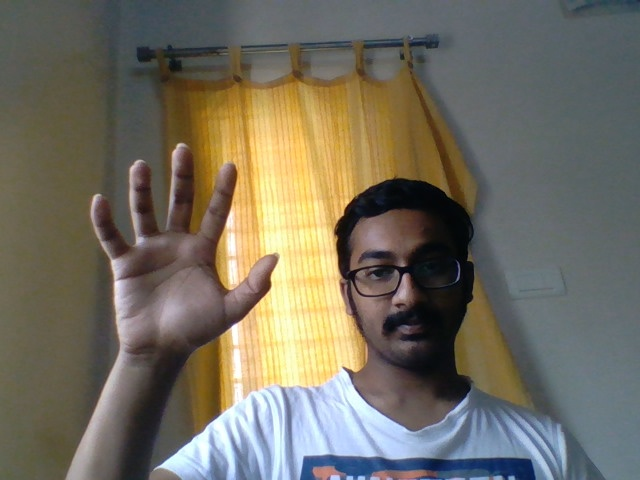no: (50, 116, 294, 390)
